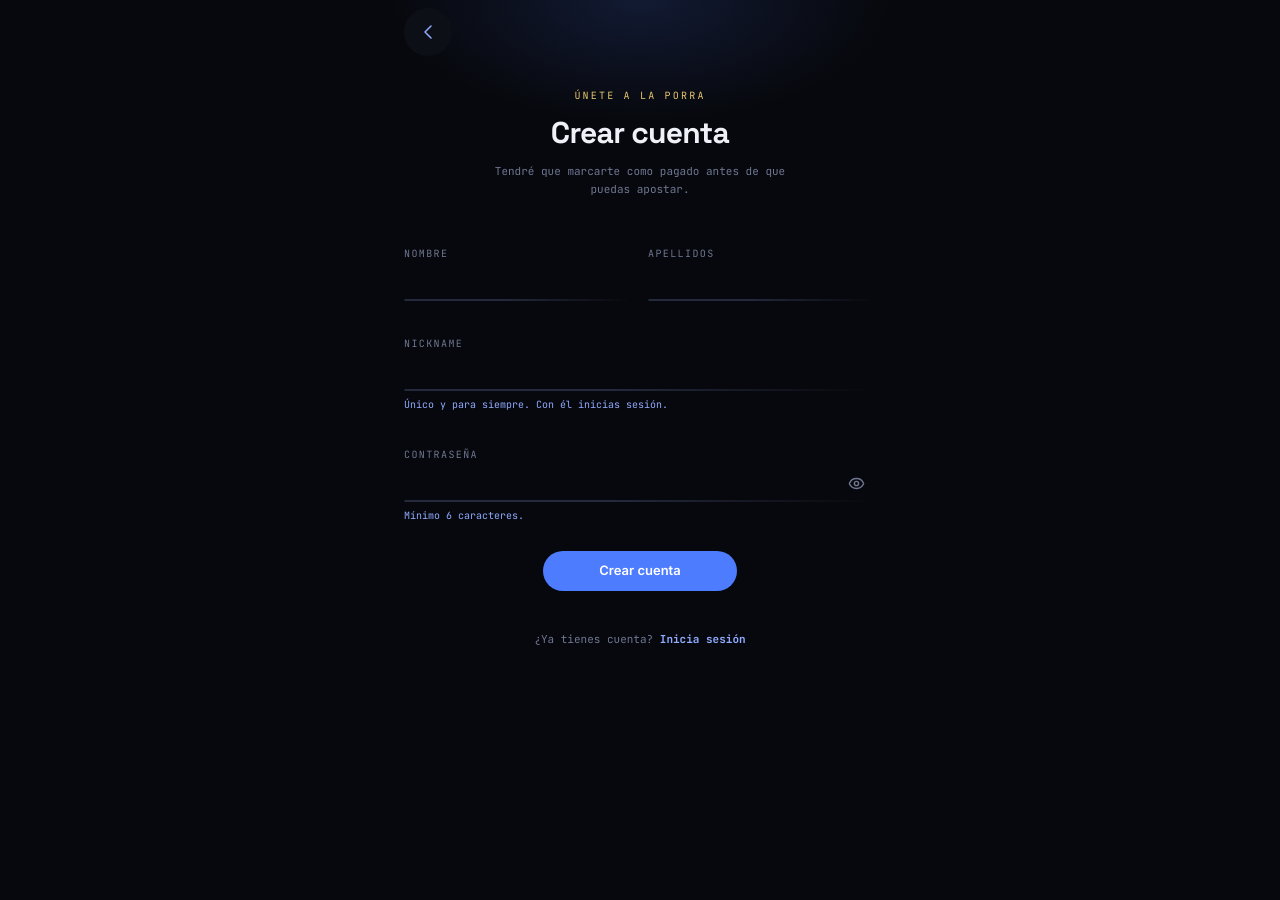
Scenario: la aplicación › crea una cuenta y avisa de que ha ido bien
Type "Iván" into the field labelled "Nombre". click: (518, 283)
box: top-left (404, 267), bottom-right (632, 299)
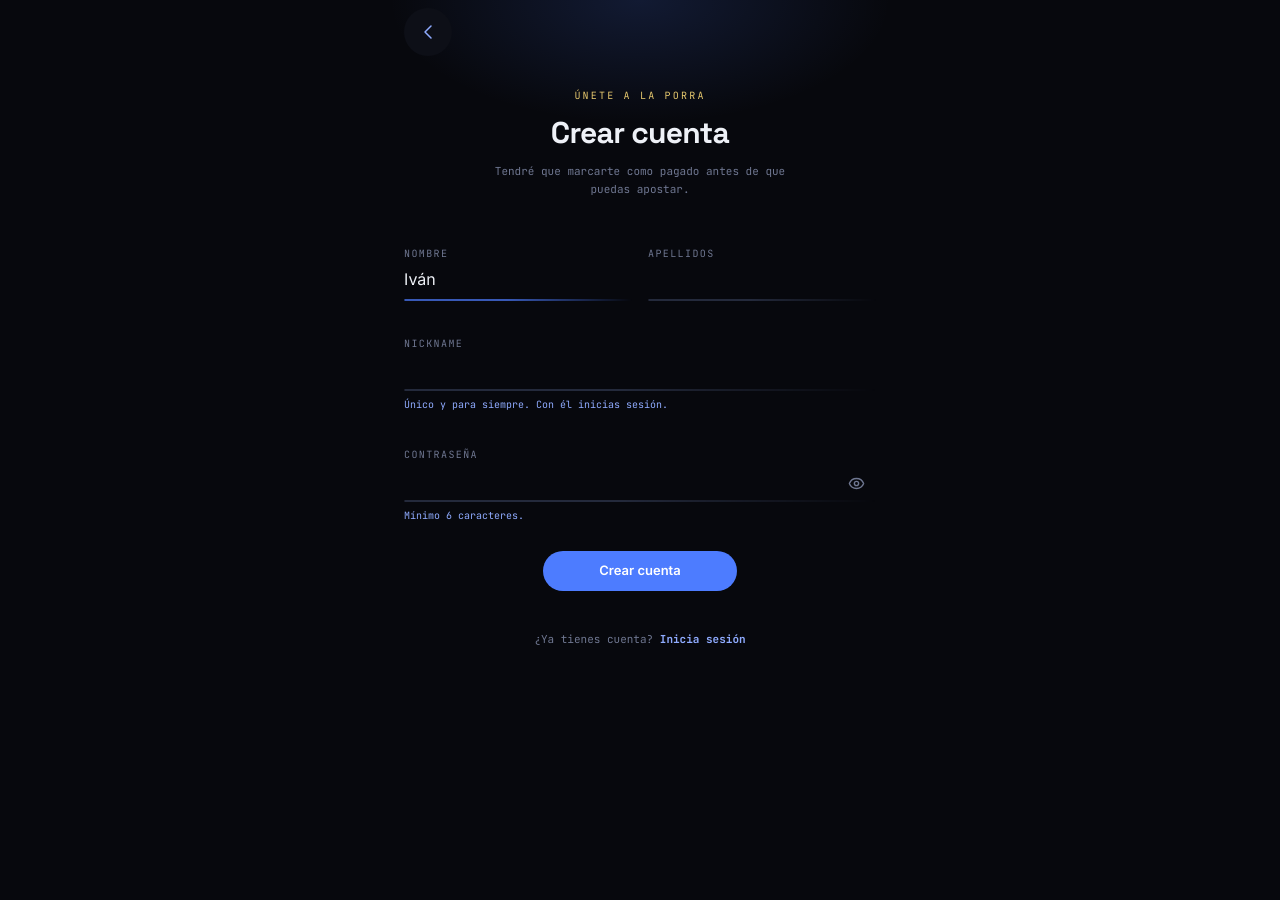
Type "Pérez Ruiz" into the field labelled "Apellidos". click: (762, 283)
box: top-left (648, 267), bottom-right (876, 299)
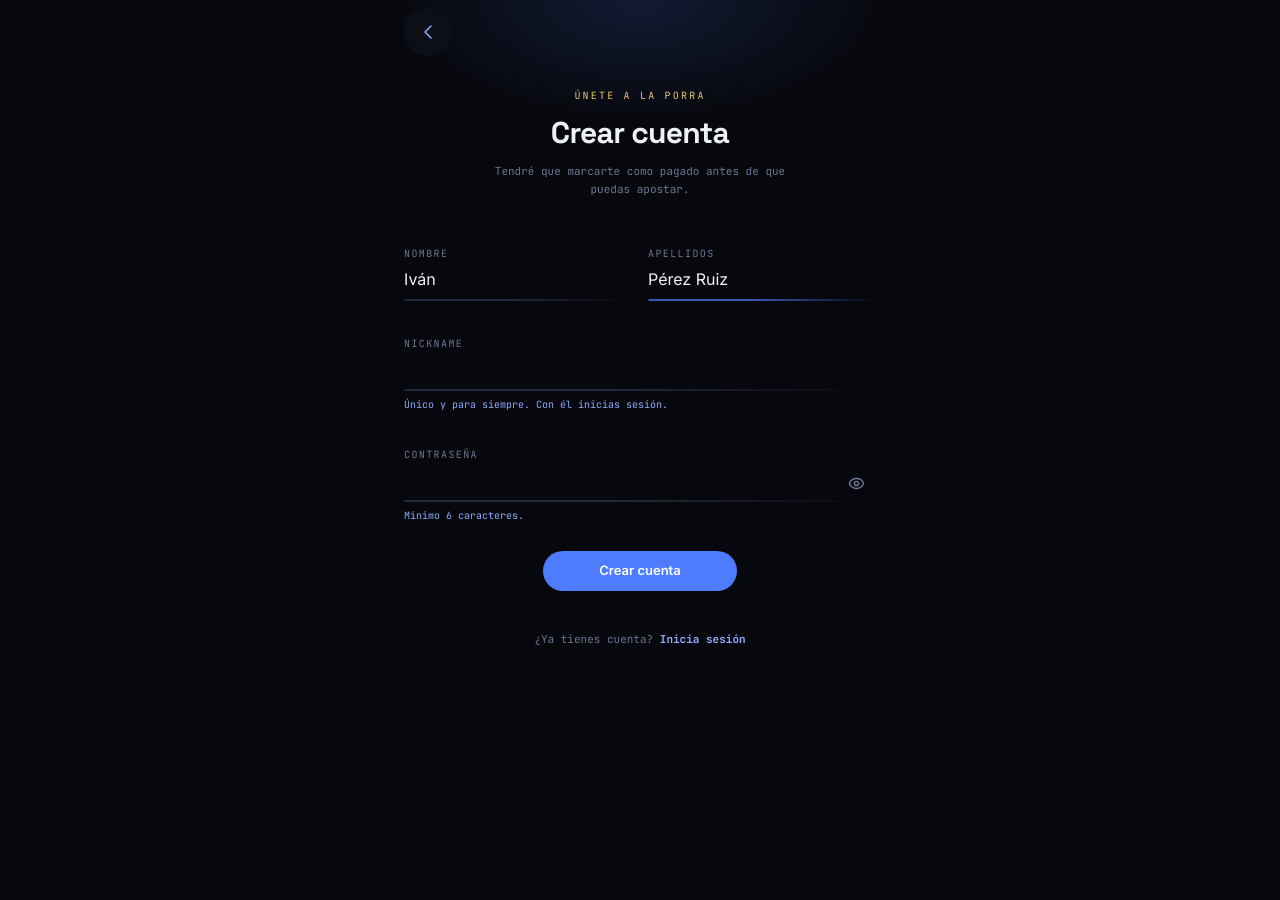
Type "ivanp" into the field labelled "Nickname". click: (640, 373)
box: top-left (404, 357), bottom-right (876, 389)
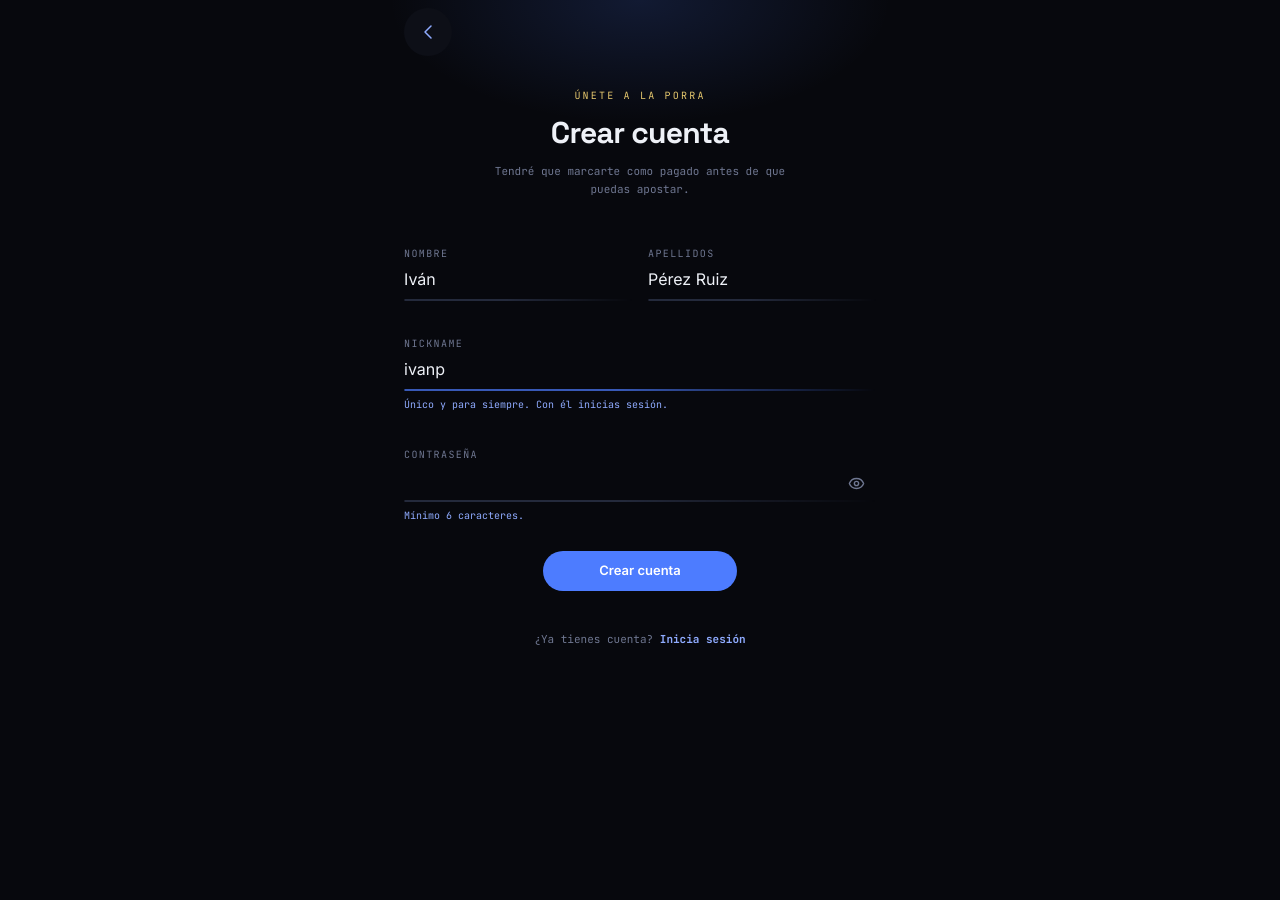
Type "secreta" into the password field labelled "Contraseña". click: (640, 484)
box: top-left (404, 468), bottom-right (876, 500)
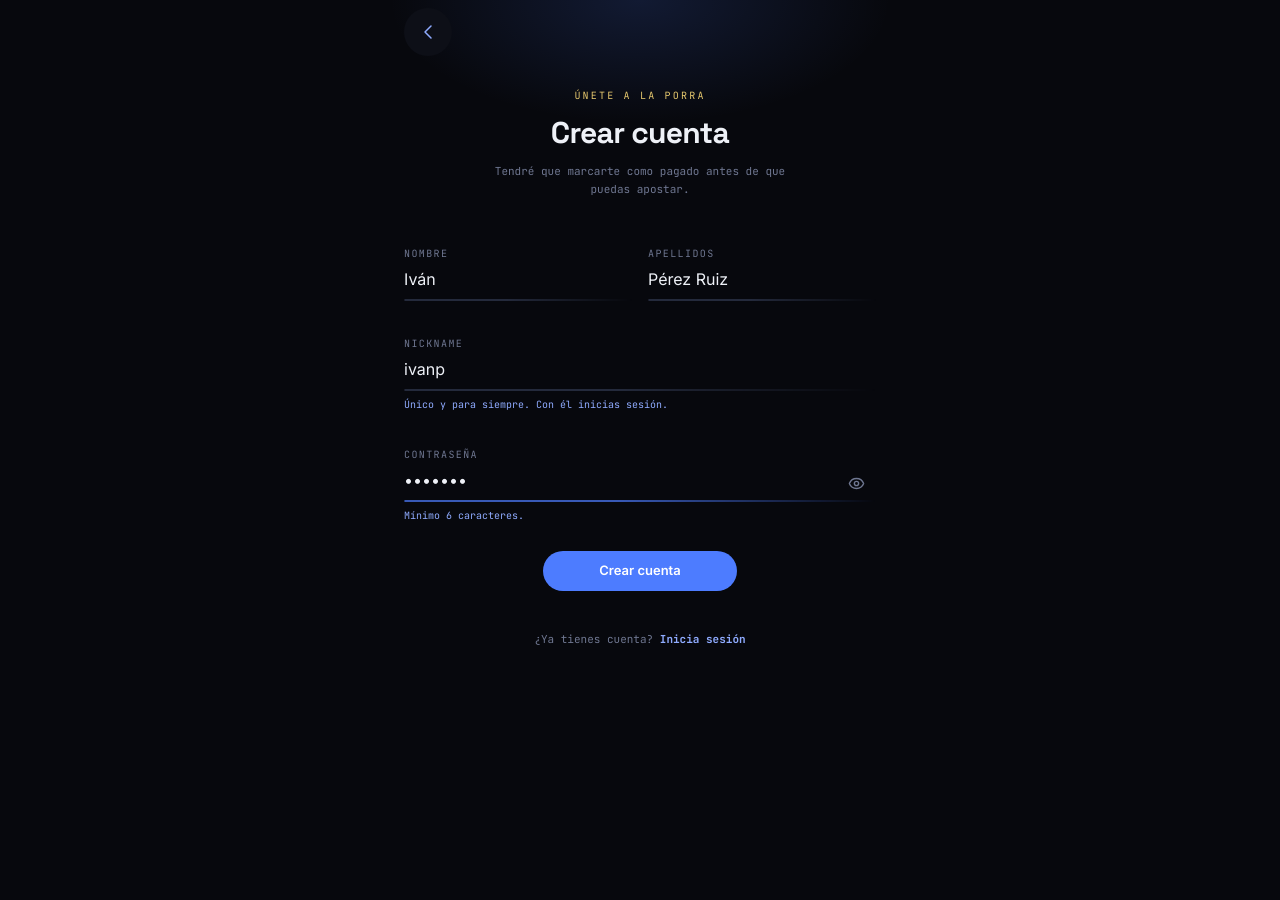
Click the button "Crear cuenta". click: click(640, 571)
box: top-left (543, 551), bottom-right (737, 591)
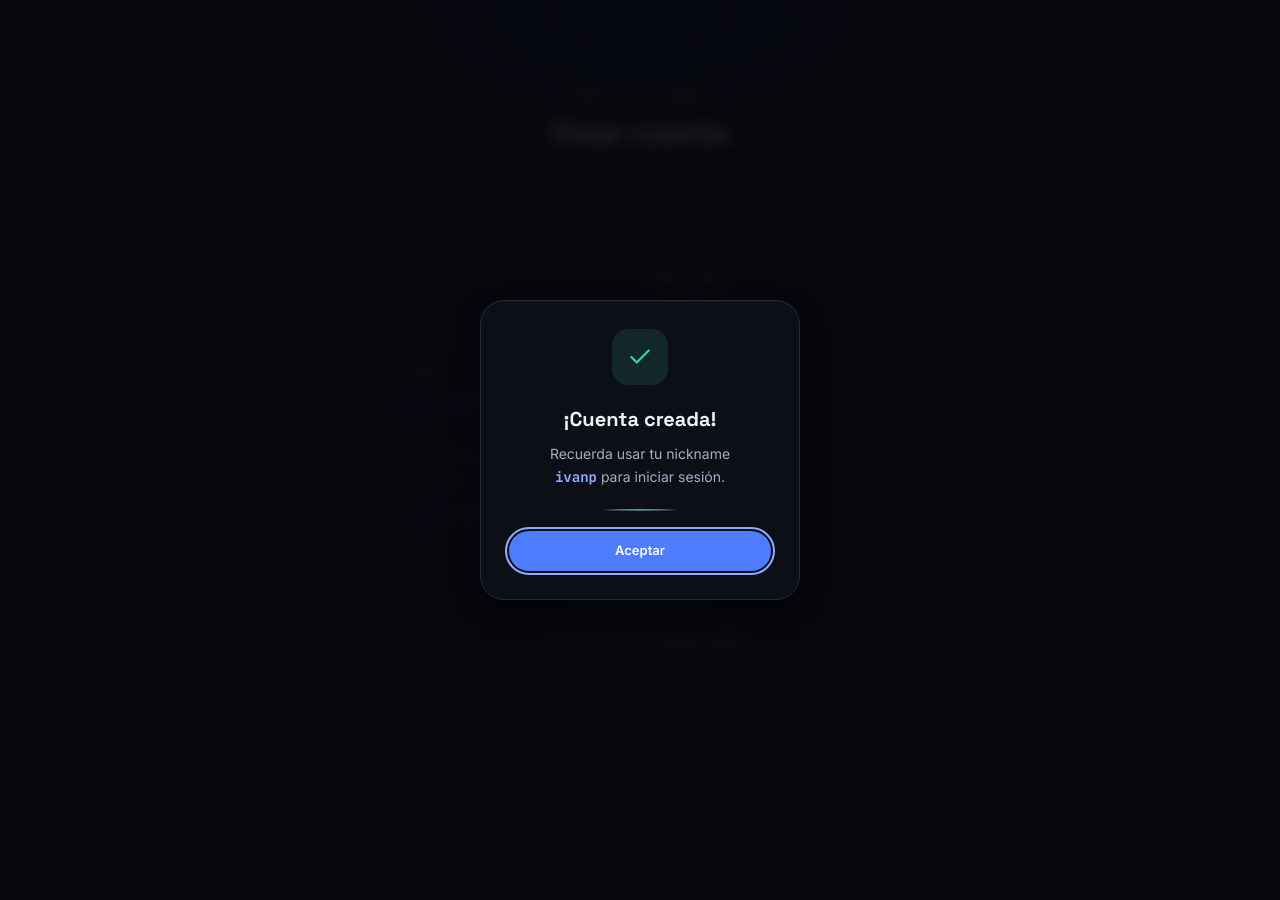
Expected: the heading "¡Cuenta creada!" is shown, top-left (564, 406), bottom-right (716, 432)
Expected: the text "ivanp" is shown, top-left (555, 468), bottom-right (597, 486)
Expected: the button "Aceptar" is shown, top-left (509, 531), bottom-right (771, 571)
